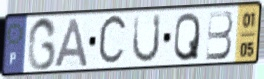A: (53, 17, 90, 69)
B: (204, 8, 235, 62)
C: (96, 12, 129, 69)
G: (25, 16, 58, 73)
Q: (172, 11, 202, 63)
U: (130, 12, 163, 65)
